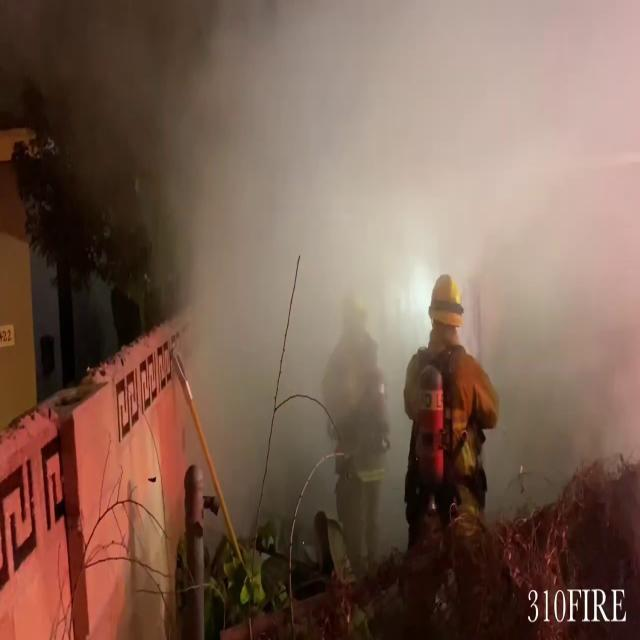Smoke: (156, 1, 640, 550)
